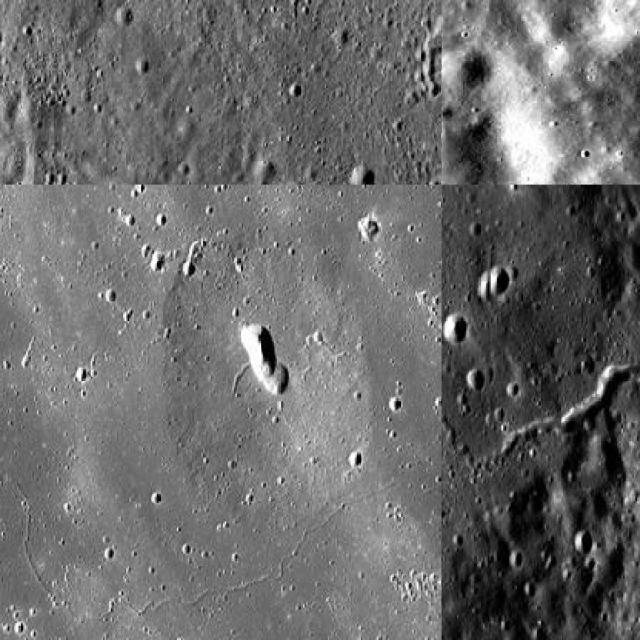rille: (0, 386, 440, 626), (442, 263, 638, 477), (442, 0, 483, 183)
